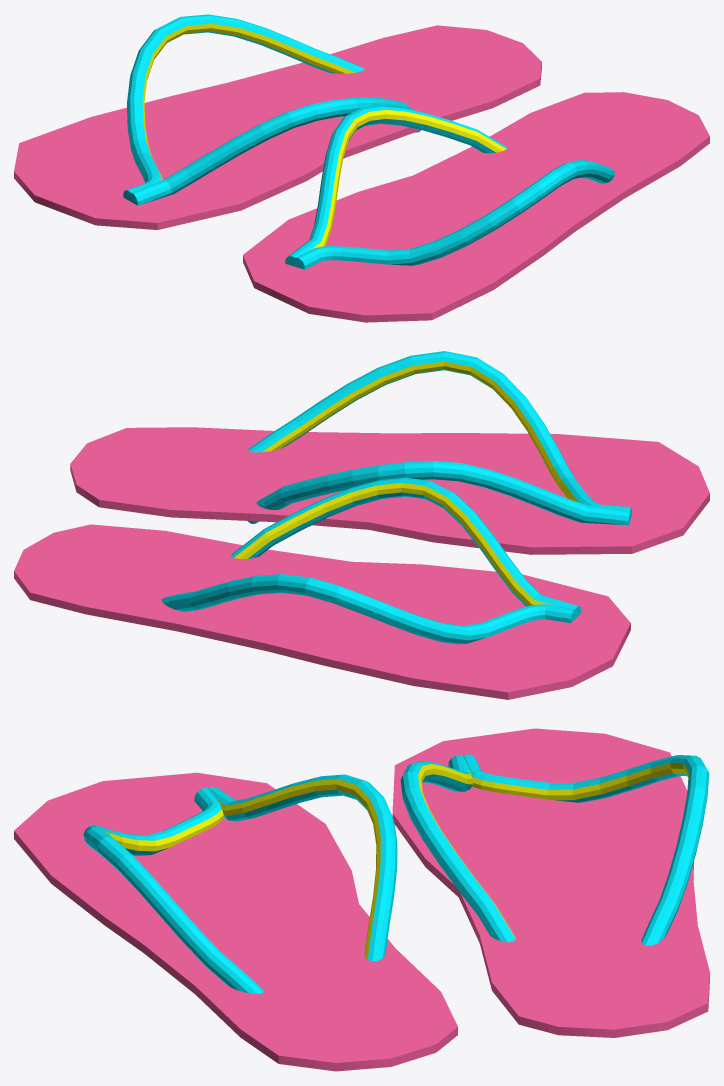
Rendered from Flip flops.glb.
3 renders of one model, top to bottom at view 1: azimuth 30°, elevation 25°; view 2: azimuth 150°, elevation 25°; view 3: azimuth 270°, elevation 25°, orthographic. The views are drawn at different scales.
Visible parts, largest first — view 1: Box004, Box003, Line005, Line006; view 2: Box003, Box004, Line006, Line005; view 3: Box004, Box003, Line006, Line005.
Boxes of the visible parts, left/top/right/bottom form: Box004: left=243, top=92, right=709, bottom=322; Box003: left=14, top=25, right=541, bottom=229; Line005: left=123, top=14, right=420, bottom=205; Line006: left=285, top=106, right=614, bottom=269; Box003: left=14, top=524, right=630, bottom=699; Box004: left=70, top=427, right=709, bottom=554; Line006: left=248, top=351, right=631, bottom=525; Line005: left=161, top=477, right=581, bottom=644; Box004: left=14, top=772, right=457, bottom=1071; Box003: left=392, top=728, right=709, bottom=1037; Line006: left=83, top=774, right=397, bottom=993; Line005: left=400, top=754, right=709, bottom=945.
Bounding box in the file's own units: 954235 × 150961 × 838809.
